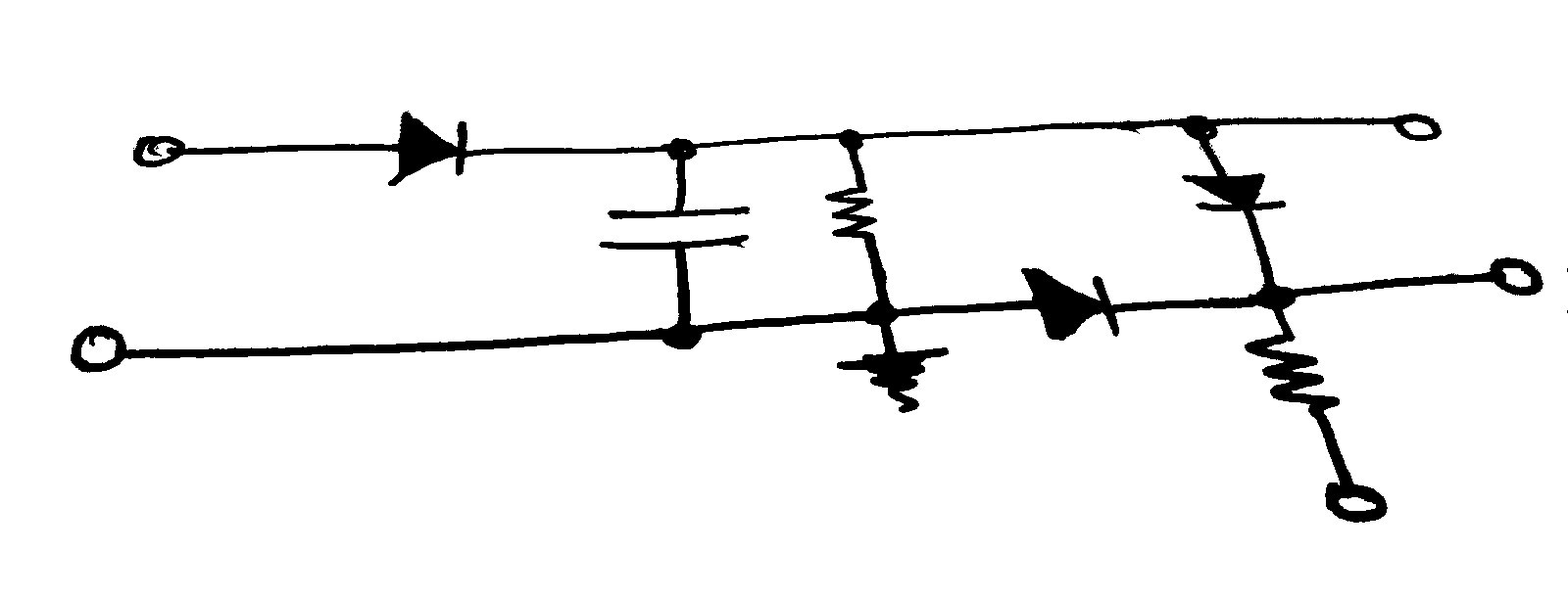capacitor.unpolarized: (604, 197, 749, 255)
diode: (1025, 271, 1123, 342), (390, 113, 471, 183), (1184, 168, 1285, 215)
gnd: (840, 345, 951, 408)
junction: (1249, 282, 1303, 314), (659, 316, 707, 350), (1180, 110, 1221, 144), (660, 137, 705, 166), (865, 297, 905, 327), (832, 127, 873, 151)
resistor: (1244, 325, 1336, 420), (821, 182, 883, 248)
terminal: (1323, 469, 1387, 523), (127, 126, 191, 171), (70, 324, 133, 369), (1485, 257, 1542, 296), (1389, 108, 1440, 143)
